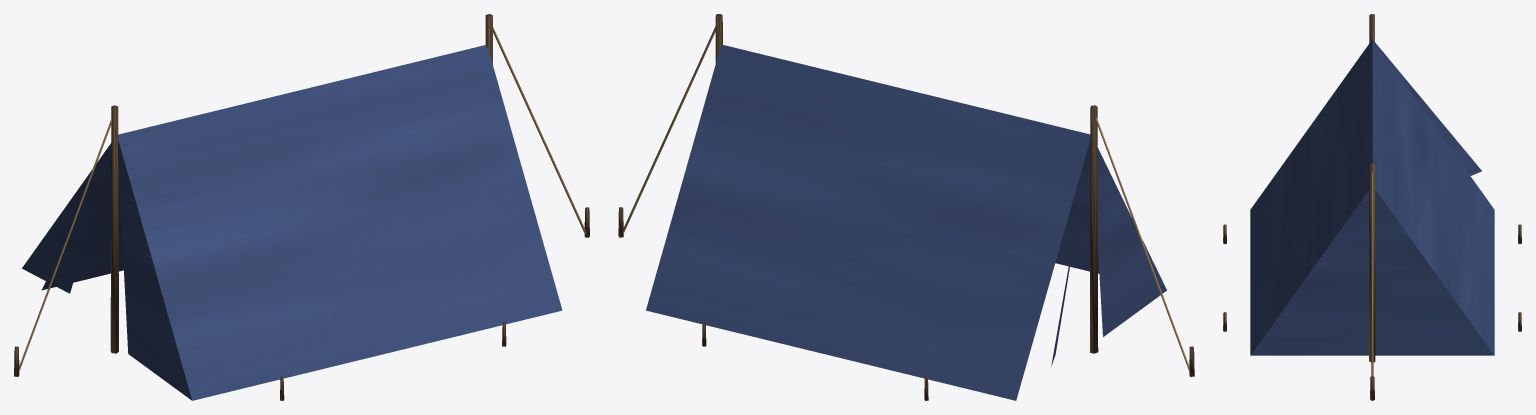
File: Tent_Pilgrim_5.gltf
The picture shows the model from 3 angles, left to right: view 1: azimuth 30°, elevation 25°; view 2: azimuth 150°, elevation 25°; view 3: azimuth 270°, elevation 25°; orthographic projection. The views are drawn at different scales.
Visible parts, largest first — view 1: Tent_Pilgrim_5; view 2: Tent_Pilgrim_5; view 3: Tent_Pilgrim_5.
Boxes of the visible parts, left/top/right/bottom form: Tent_Pilgrim_5: left=14, top=14, right=589, bottom=400; Tent_Pilgrim_5: left=618, top=14, right=1194, bottom=400; Tent_Pilgrim_5: left=1223, top=14, right=1521, bottom=400.
Bounding box in the file's own units: 7.93 × 3.23 × 4.41.
3 materials, 3 textured.
